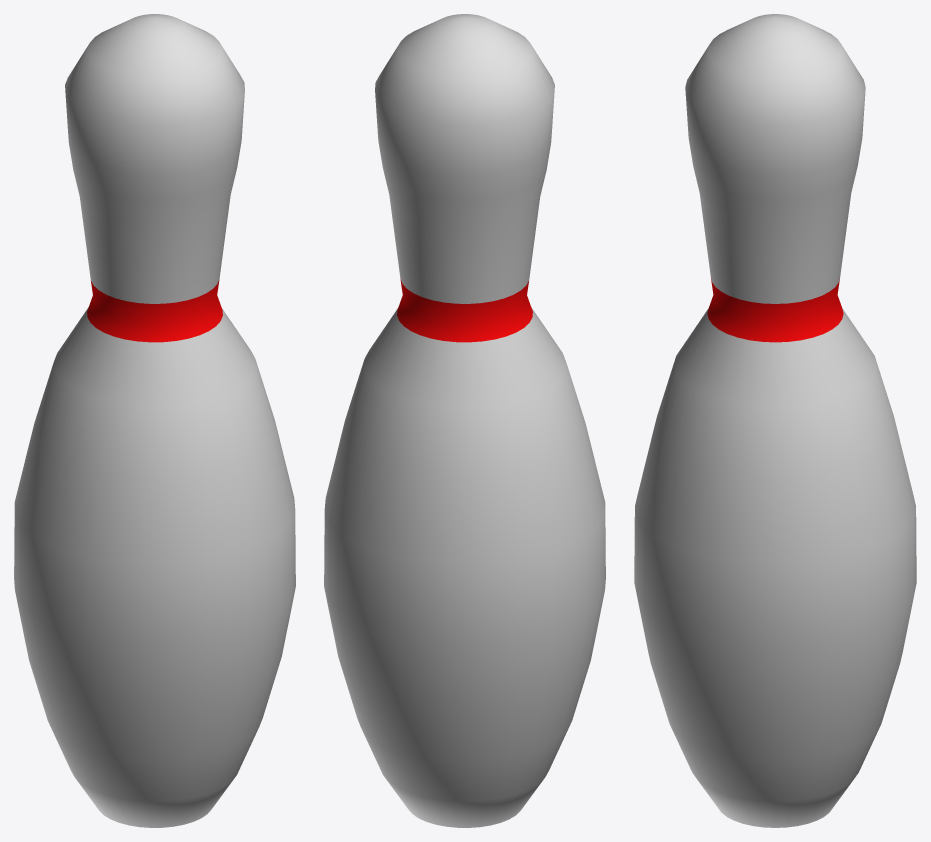
The model's file is BowlingPin.fbx.
The picture shows the model from 3 angles, left to right: view 1: azimuth 30°, elevation 25°; view 2: azimuth 150°, elevation 25°; view 3: azimuth 270°, elevation 25°; orthographic projection.
Parts seen in each view (by area): view 1: Pin; view 2: Pin; view 3: Pin.
Boxes of the visible parts, left/top/right/bottom form: Pin: left=14, top=14, right=295, bottom=827; Pin: left=324, top=14, right=605, bottom=827; Pin: left=634, top=14, right=916, bottom=827.
Size of the model in its own units: 185 by 566 by 185.
